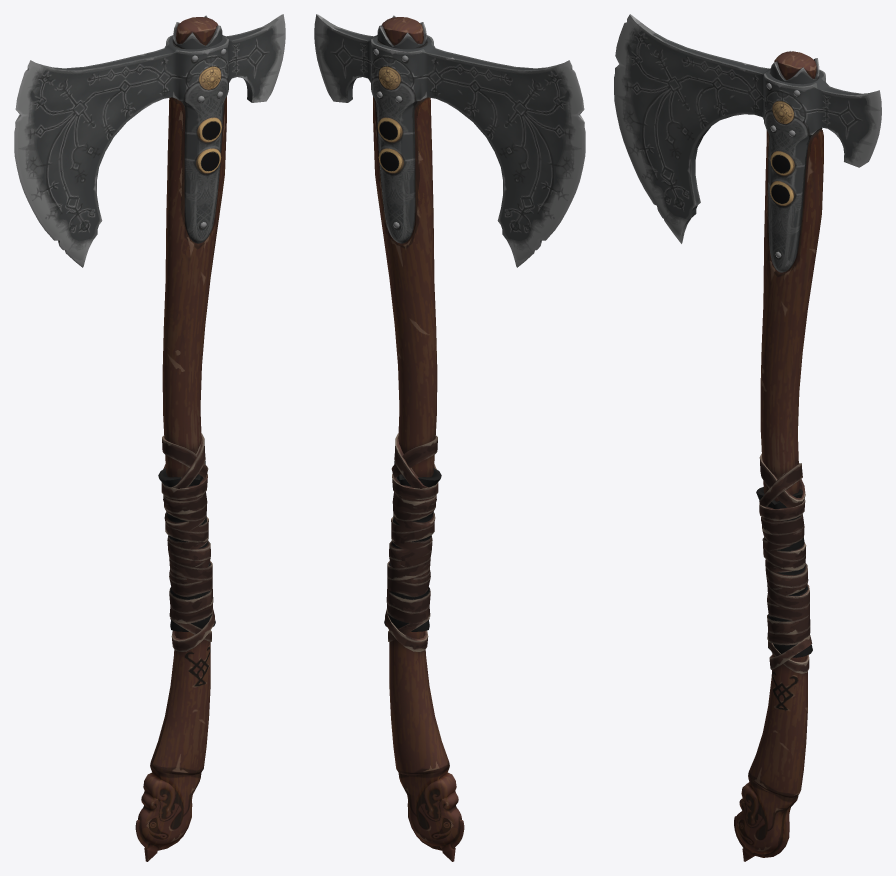
Rendered from leviathan-axe.glb.
The picture shows the model from 3 angles, left to right: view 1: azimuth 30°, elevation 25°; view 2: azimuth 150°, elevation 25°; view 3: azimuth 330°, elevation 25°; orthographic projection.
Visible parts, largest first — view 1: Historian_Male_Axe_0; view 2: Historian_Male_Axe_0; view 3: Historian_Male_Axe_0.
Part boxes in pixels (x1,y1,x2,y2): Historian_Male_Axe_0: [14, 14, 285, 861]; Historian_Male_Axe_0: [314, 14, 585, 861]; Historian_Male_Axe_0: [614, 14, 881, 861].
Bounding box in the file's own units: 1.1 × 3.2 × 0.2013.
1 material, 1 textured.
